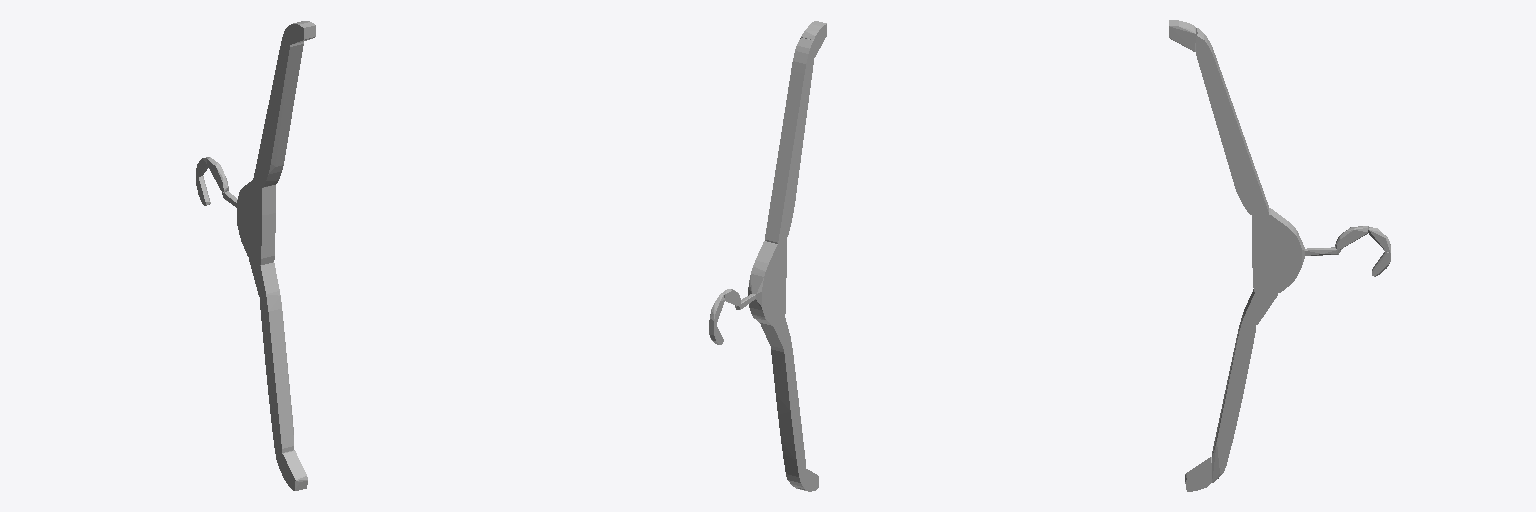
robot.urdf — root:
<robot name="root">
  <link name="link_6c13bfaf4bdee0f9bd74098eb07a2294_convex_piece_0">
    <inertial>
      <origin rpy="0 0 0" xyz="0 0 0"/>
      <mass value="4.10E-08"/>
      <inertia ixx="1.10E-10" ixy="7.71E-14" ixz="2.31E-13" iyy="1.01E-10" iyz="3.35E-11" izz="9.16E-12"/>
    </inertial>
    <visual>
      <origin rpy="0 0 0" xyz="0 0 0"/>
      <geometry>
        <mesh filename="6c13bfaf4bdee0f9bd74098eb07a2294_convex_piece_0.obj" scale="1.0000E+00"/>
      </geometry>
      <material name="">
        <color rgba="7.50E-01 7.50E-01 7.50E-01 1"/>
      </material>
    </visual>
    <collision>
      <origin rpy="0 0 0" xyz="0 0 0"/>
      <geometry>
        <mesh filename="6c13bfaf4bdee0f9bd74098eb07a2294_convex_piece_0.obj" scale="1.0000E+00"/>
      </geometry>
    </collision>
  </link>
  <link name="link_6c13bfaf4bdee0f9bd74098eb07a2294_convex_piece_1">
    <inertial>
      <origin rpy="0 0 0" xyz="0 0 0"/>
      <mass value="2.60E-07"/>
      <inertia ixx="2.72E-10" ixy="-9.03E-14" ixz="-3.05E-13" iyy="2.61E-10" iyz="7.84E-11" izz="1.15E-11"/>
    </inertial>
    <visual>
      <origin rpy="0 0 0" xyz="0 0 0"/>
      <geometry>
        <mesh filename="6c13bfaf4bdee0f9bd74098eb07a2294_convex_piece_1.obj" scale="1.0000E+00"/>
      </geometry>
      <material name="">
        <color rgba="7.50E-01 7.50E-01 7.50E-01 1"/>
      </material>
    </visual>
    <collision>
      <origin rpy="0 0 0" xyz="0 0 0"/>
      <geometry>
        <mesh filename="6c13bfaf4bdee0f9bd74098eb07a2294_convex_piece_1.obj" scale="1.0000E+00"/>
      </geometry>
    </collision>
  </link>
  <joint name="link_6c13bfaf4bdee0f9bd74098eb07a2294_convex_piece_1_joint" type="fixed">
    <origin rpy="0 0 0" xyz="0 0 0"/>
    <parent link="link_6c13bfaf4bdee0f9bd74098eb07a2294_convex_piece_0"/>
    <child link="link_6c13bfaf4bdee0f9bd74098eb07a2294_convex_piece_1"/>
  </joint>
  <link name="link_6c13bfaf4bdee0f9bd74098eb07a2294_convex_piece_2">
    <inertial>
      <origin rpy="0 0 0" xyz="0 0 0"/>
      <mass value="3.57E-08"/>
      <inertia ixx="2.49E-12" ixy="-4.98E-15" ixz="-1.79E-14" iyy="3.79E-12" iyz="1.36E-12" izz="-1.24E-12"/>
    </inertial>
    <visual>
      <origin rpy="0 0 0" xyz="0 0 0"/>
      <geometry>
        <mesh filename="6c13bfaf4bdee0f9bd74098eb07a2294_convex_piece_2.obj" scale="1.0000E+00"/>
      </geometry>
      <material name="">
        <color rgba="7.50E-01 7.50E-01 7.50E-01 1"/>
      </material>
    </visual>
    <collision>
      <origin rpy="0 0 0" xyz="0 0 0"/>
      <geometry>
        <mesh filename="6c13bfaf4bdee0f9bd74098eb07a2294_convex_piece_2.obj" scale="1.0000E+00"/>
      </geometry>
    </collision>
  </link>
  <joint name="link_6c13bfaf4bdee0f9bd74098eb07a2294_convex_piece_2_joint" type="fixed">
    <origin rpy="0 0 0" xyz="0 0 0"/>
    <parent link="link_6c13bfaf4bdee0f9bd74098eb07a2294_convex_piece_1"/>
    <child link="link_6c13bfaf4bdee0f9bd74098eb07a2294_convex_piece_2"/>
  </joint>
  <link name="link_6c13bfaf4bdee0f9bd74098eb07a2294_convex_piece_3">
    <inertial>
      <origin rpy="0 0 0" xyz="0 0 0"/>
      <mass value="3.06E-07"/>
      <inertia ixx="-5.05E-12" ixy="-1.16E-14" ixz="1.48E-14" iyy="7.02E-12" iyz="2.32E-13" izz="-1.15E-11"/>
    </inertial>
    <visual>
      <origin rpy="0 0 0" xyz="0 0 0"/>
      <geometry>
        <mesh filename="6c13bfaf4bdee0f9bd74098eb07a2294_convex_piece_3.obj" scale="1.0000E+00"/>
      </geometry>
      <material name="">
        <color rgba="7.50E-01 7.50E-01 7.50E-01 1"/>
      </material>
    </visual>
    <collision>
      <origin rpy="0 0 0" xyz="0 0 0"/>
      <geometry>
        <mesh filename="6c13bfaf4bdee0f9bd74098eb07a2294_convex_piece_3.obj" scale="1.0000E+00"/>
      </geometry>
    </collision>
  </link>
  <joint name="link_6c13bfaf4bdee0f9bd74098eb07a2294_convex_piece_3_joint" type="fixed">
    <origin rpy="0 0 0" xyz="0 0 0"/>
    <parent link="link_6c13bfaf4bdee0f9bd74098eb07a2294_convex_piece_2"/>
    <child link="link_6c13bfaf4bdee0f9bd74098eb07a2294_convex_piece_3"/>
  </joint>
  <link name="link_6c13bfaf4bdee0f9bd74098eb07a2294_convex_piece_4">
    <inertial>
      <origin rpy="0 0 0" xyz="0 0 0"/>
      <mass value="4.14E-08"/>
      <inertia ixx="1.17E-10" ixy="2.75E-14" ixz="-6.20E-14" iyy="1.03E-10" iyz="-4.06E-11" izz="1.41E-11"/>
    </inertial>
    <visual>
      <origin rpy="0 0 0" xyz="0 0 0"/>
      <geometry>
        <mesh filename="6c13bfaf4bdee0f9bd74098eb07a2294_convex_piece_4.obj" scale="1.0000E+00"/>
      </geometry>
      <material name="">
        <color rgba="7.50E-01 7.50E-01 7.50E-01 1"/>
      </material>
    </visual>
    <collision>
      <origin rpy="0 0 0" xyz="0 0 0"/>
      <geometry>
        <mesh filename="6c13bfaf4bdee0f9bd74098eb07a2294_convex_piece_4.obj" scale="1.0000E+00"/>
      </geometry>
    </collision>
  </link>
  <joint name="link_6c13bfaf4bdee0f9bd74098eb07a2294_convex_piece_4_joint" type="fixed">
    <origin rpy="0 0 0" xyz="0 0 0"/>
    <parent link="link_6c13bfaf4bdee0f9bd74098eb07a2294_convex_piece_3"/>
    <child link="link_6c13bfaf4bdee0f9bd74098eb07a2294_convex_piece_4"/>
  </joint>
  <link name="link_6c13bfaf4bdee0f9bd74098eb07a2294_convex_piece_5">
    <inertial>
      <origin rpy="0 0 0" xyz="0 0 0"/>
      <mass value="3.33E-07"/>
      <inertia ixx="3.32E-10" ixy="-1.61E-13" ixz="4.67E-13" iyy="3.09E-10" iyz="-1.08E-10" izz="2.34E-11"/>
    </inertial>
    <visual>
      <origin rpy="0 0 0" xyz="0 0 0"/>
      <geometry>
        <mesh filename="6c13bfaf4bdee0f9bd74098eb07a2294_convex_piece_5.obj" scale="1.0000E+00"/>
      </geometry>
      <material name="">
        <color rgba="7.50E-01 7.50E-01 7.50E-01 1"/>
      </material>
    </visual>
    <collision>
      <origin rpy="0 0 0" xyz="0 0 0"/>
      <geometry>
        <mesh filename="6c13bfaf4bdee0f9bd74098eb07a2294_convex_piece_5.obj" scale="1.0000E+00"/>
      </geometry>
    </collision>
  </link>
  <joint name="link_6c13bfaf4bdee0f9bd74098eb07a2294_convex_piece_5_joint" type="fixed">
    <origin rpy="0 0 0" xyz="0 0 0"/>
    <parent link="link_6c13bfaf4bdee0f9bd74098eb07a2294_convex_piece_4"/>
    <child link="link_6c13bfaf4bdee0f9bd74098eb07a2294_convex_piece_5"/>
  </joint>
  <link name="link_6c13bfaf4bdee0f9bd74098eb07a2294_convex_piece_6">
    <inertial>
      <origin rpy="0 0 0" xyz="0 0 0"/>
      <mass value="6.60E-09"/>
      <inertia ixx="2.20E-13" ixy="1.52E-16" ixz="-4.35E-17" iyy="6.97E-15" iyz="8.11E-14" izz="2.15E-13"/>
    </inertial>
    <visual>
      <origin rpy="0 0 0" xyz="0 0 0"/>
      <geometry>
        <mesh filename="6c13bfaf4bdee0f9bd74098eb07a2294_convex_piece_6.obj" scale="1.0000E+00"/>
      </geometry>
      <material name="">
        <color rgba="7.50E-01 7.50E-01 7.50E-01 1"/>
      </material>
    </visual>
    <collision>
      <origin rpy="0 0 0" xyz="0 0 0"/>
      <geometry>
        <mesh filename="6c13bfaf4bdee0f9bd74098eb07a2294_convex_piece_6.obj" scale="1.0000E+00"/>
      </geometry>
    </collision>
  </link>
  <joint name="link_6c13bfaf4bdee0f9bd74098eb07a2294_convex_piece_6_joint" type="fixed">
    <origin rpy="0 0 0" xyz="0 0 0"/>
    <parent link="link_6c13bfaf4bdee0f9bd74098eb07a2294_convex_piece_5"/>
    <child link="link_6c13bfaf4bdee0f9bd74098eb07a2294_convex_piece_6"/>
  </joint>
  <link name="link_6c13bfaf4bdee0f9bd74098eb07a2294_convex_piece_7">
    <inertial>
      <origin rpy="0 0 0" xyz="0 0 0"/>
      <mass value="1.35E-08"/>
      <inertia ixx="2.49E-12" ixy="6.81E-15" ixz="1.96E-15" iyy="2.85E-13" iyz="9.29E-13" izz="2.21E-12"/>
    </inertial>
    <visual>
      <origin rpy="0 0 0" xyz="0 0 0"/>
      <geometry>
        <mesh filename="6c13bfaf4bdee0f9bd74098eb07a2294_convex_piece_7.obj" scale="1.0000E+00"/>
      </geometry>
      <material name="">
        <color rgba="7.50E-01 7.50E-01 7.50E-01 1"/>
      </material>
    </visual>
    <collision>
      <origin rpy="0 0 0" xyz="0 0 0"/>
      <geometry>
        <mesh filename="6c13bfaf4bdee0f9bd74098eb07a2294_convex_piece_7.obj" scale="1.0000E+00"/>
      </geometry>
    </collision>
  </link>
  <joint name="link_6c13bfaf4bdee0f9bd74098eb07a2294_convex_piece_7_joint" type="fixed">
    <origin rpy="0 0 0" xyz="0 0 0"/>
    <parent link="link_6c13bfaf4bdee0f9bd74098eb07a2294_convex_piece_6"/>
    <child link="link_6c13bfaf4bdee0f9bd74098eb07a2294_convex_piece_7"/>
  </joint>
  <link name="link_6c13bfaf4bdee0f9bd74098eb07a2294_convex_piece_8">
    <inertial>
      <origin rpy="0 0 0" xyz="0 0 0"/>
      <mass value="8.35E-09"/>
      <inertia ixx="3.27E-12" ixy="5.58E-15" ixz="-4.05E-16" iyy="4.03E-14" iyz="-2.63E-13" izz="3.23E-12"/>
    </inertial>
    <visual>
      <origin rpy="0 0 0" xyz="0 0 0"/>
      <geometry>
        <mesh filename="6c13bfaf4bdee0f9bd74098eb07a2294_convex_piece_8.obj" scale="1.0000E+00"/>
      </geometry>
      <material name="">
        <color rgba="7.50E-01 7.50E-01 7.50E-01 1"/>
      </material>
    </visual>
    <collision>
      <origin rpy="0 0 0" xyz="0 0 0"/>
      <geometry>
        <mesh filename="6c13bfaf4bdee0f9bd74098eb07a2294_convex_piece_8.obj" scale="1.0000E+00"/>
      </geometry>
    </collision>
  </link>
  <joint name="link_6c13bfaf4bdee0f9bd74098eb07a2294_convex_piece_8_joint" type="fixed">
    <origin rpy="0 0 0" xyz="0 0 0"/>
    <parent link="link_6c13bfaf4bdee0f9bd74098eb07a2294_convex_piece_7"/>
    <child link="link_6c13bfaf4bdee0f9bd74098eb07a2294_convex_piece_8"/>
  </joint>
  <link name="link_6c13bfaf4bdee0f9bd74098eb07a2294_convex_piece_9">
    <inertial>
      <origin rpy="0 0 0" xyz="0 0 0"/>
      <mass value="8.93E-09"/>
      <inertia ixx="3.48E-12" ixy="5.78E-15" ixz="1.06E-15" iyy="1.50E-13" iyz="7.30E-13" izz="3.33E-12"/>
    </inertial>
    <visual>
      <origin rpy="0 0 0" xyz="0 0 0"/>
      <geometry>
        <mesh filename="6c13bfaf4bdee0f9bd74098eb07a2294_convex_piece_9.obj" scale="1.0000E+00"/>
      </geometry>
      <material name="">
        <color rgba="7.50E-01 7.50E-01 7.50E-01 1"/>
      </material>
    </visual>
    <collision>
      <origin rpy="0 0 0" xyz="0 0 0"/>
      <geometry>
        <mesh filename="6c13bfaf4bdee0f9bd74098eb07a2294_convex_piece_9.obj" scale="1.0000E+00"/>
      </geometry>
    </collision>
  </link>
  <joint name="link_6c13bfaf4bdee0f9bd74098eb07a2294_convex_piece_9_joint" type="fixed">
    <origin rpy="0 0 0" xyz="0 0 0"/>
    <parent link="link_6c13bfaf4bdee0f9bd74098eb07a2294_convex_piece_8"/>
    <child link="link_6c13bfaf4bdee0f9bd74098eb07a2294_convex_piece_9"/>
  </joint>
</robot>

--- Facts derived from the render (not from the file) ---
The picture shows the robot from 3 angles, left to right: view 1: azimuth 30°, elevation 25°; view 2: azimuth 150°, elevation 25°; view 3: azimuth 270°, elevation 25°; orthographic projection.
Robot: root — 10 links, 9 joints (9 fixed); root link link_6c13bfaf4bdee0f9bd74098eb07a2294_convex_piece_0; default pose: every joint at zero.
Links seen in each view (by area): view 1: link_6c13bfaf4bdee0f9bd74098eb07a2294_convex_piece_1, link_6c13bfaf4bdee0f9bd74098eb07a2294_convex_piece_5, link_6c13bfaf4bdee0f9bd74098eb07a2294_convex_piece_3, link_6c13bfaf4bdee0f9bd74098eb07a2294_convex_piece_0; view 2: link_6c13bfaf4bdee0f9bd74098eb07a2294_convex_piece_5, link_6c13bfaf4bdee0f9bd74098eb07a2294_convex_piece_1, link_6c13bfaf4bdee0f9bd74098eb07a2294_convex_piece_3; view 3: link_6c13bfaf4bdee0f9bd74098eb07a2294_convex_piece_5, link_6c13bfaf4bdee0f9bd74098eb07a2294_convex_piece_3, link_6c13bfaf4bdee0f9bd74098eb07a2294_convex_piece_1, link_6c13bfaf4bdee0f9bd74098eb07a2294_convex_piece_0, link_6c13bfaf4bdee0f9bd74098eb07a2294_convex_piece_4.
Boxes of the visible links, <box> form: link_6c13bfaf4bdee0f9bd74098eb07a2294_convex_piece_1: <box>260,262,293,472</box>; link_6c13bfaf4bdee0f9bd74098eb07a2294_convex_piece_5: <box>253,25,303,187</box>; link_6c13bfaf4bdee0f9bd74098eb07a2294_convex_piece_3: <box>237,180,275,265</box>; link_6c13bfaf4bdee0f9bd74098eb07a2294_convex_piece_0: <box>282,450,307,490</box>; link_6c13bfaf4bdee0f9bd74098eb07a2294_convex_piece_5: <box>765,38,813,243</box>; link_6c13bfaf4bdee0f9bd74098eb07a2294_convex_piece_1: <box>771,317,805,489</box>; link_6c13bfaf4bdee0f9bd74098eb07a2294_convex_piece_3: <box>748,238,786,325</box>; link_6c13bfaf4bdee0f9bd74098eb07a2294_convex_piece_5: <box>1196,28,1268,214</box>; link_6c13bfaf4bdee0f9bd74098eb07a2294_convex_piece_3: <box>1252,208,1304,292</box>; link_6c13bfaf4bdee0f9bd74098eb07a2294_convex_piece_1: <box>1212,289,1255,482</box>; link_6c13bfaf4bdee0f9bd74098eb07a2294_convex_piece_0: <box>1185,457,1211,491</box>; link_6c13bfaf4bdee0f9bd74098eb07a2294_convex_piece_4: <box>1169,20,1195,51</box>.
Size in the robot's own frame: 0.0032 by 0.0452 by 0.1049 metres.
Meshes: 10 distinct files referenced, 10 mesh visuals loaded (10 OBJ).
